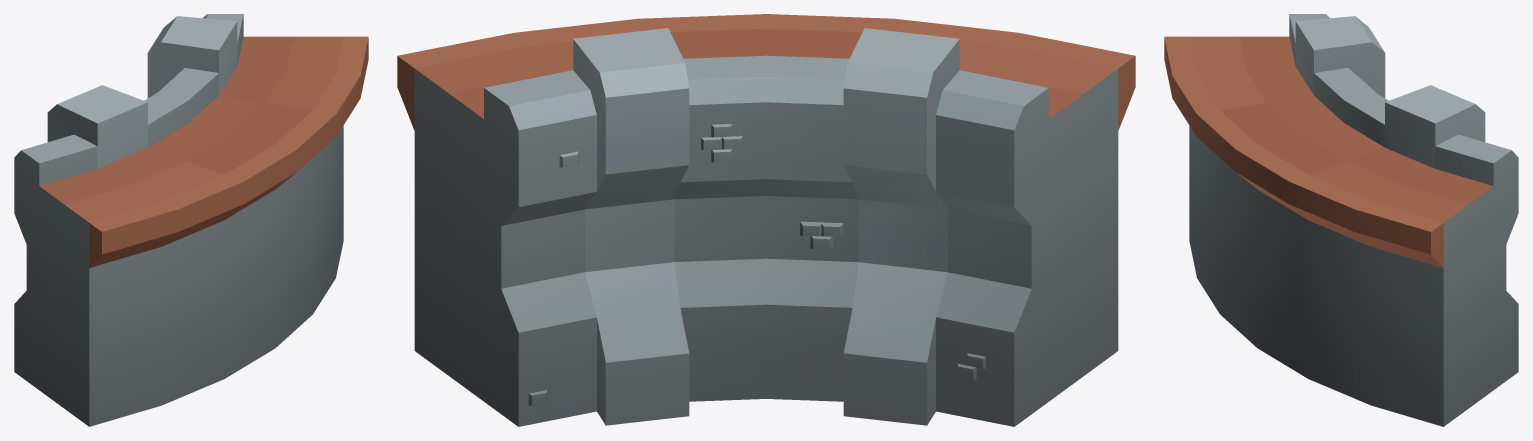
The model's file is kay-muralha-canto-dentro.gltf.
The picture shows the model from 3 angles, left to right: view 1: azimuth 30°, elevation 25°; view 2: azimuth 150°, elevation 25°; view 3: azimuth 270°, elevation 25°; orthographic projection. The views are drawn at different scales.
Visible parts, largest first — view 1: wall_corner_A_inside; view 2: wall_corner_A_inside; view 3: wall_corner_A_inside.
Part boxes in pixels (<box>): wall_corner_A_inside: <box>14,14,368,426</box>; wall_corner_A_inside: <box>397,14,1135,426</box>; wall_corner_A_inside: <box>1164,14,1518,426</box>.
Bounding box in the file's own units: 9.23 × 5.5 × 7.08.
1 material, 1 textured.
